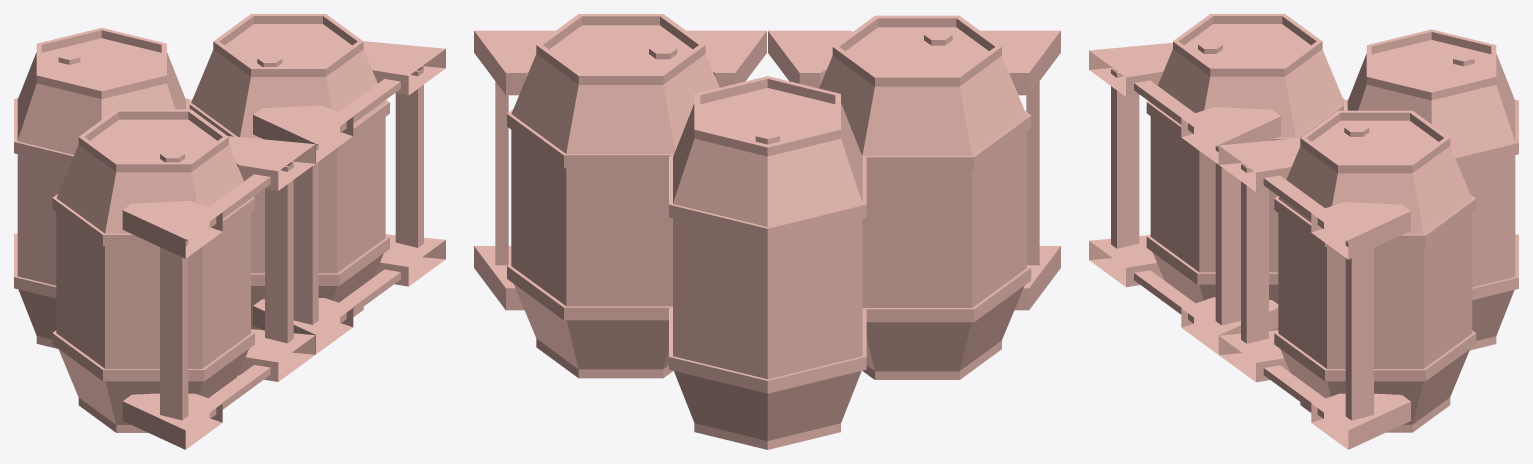
Rendered from Mega_Asset_s_Pack_Cylinder_001.FBX.
The picture shows the model from 3 angles, left to right: view 1: azimuth 30°, elevation 25°; view 2: azimuth 150°, elevation 25°; view 3: azimuth 270°, elevation 25°; orthographic projection. The views are drawn at different scales.
Parts seen in each view (by area): view 1: Mega_Asset_s_Pack_Cylinder_001; view 2: Mega_Asset_s_Pack_Cylinder_001; view 3: Mega_Asset_s_Pack_Cylinder_001.
Part boxes in pixels (x1=…): Mega_Asset_s_Pack_Cylinder_001: x1=14, y1=14, x2=445, y2=449; Mega_Asset_s_Pack_Cylinder_001: x1=474, y1=14, x2=1060, y2=449; Mega_Asset_s_Pack_Cylinder_001: x1=1089, y1=14, x2=1518, y2=449.
Size of what is drawn, in the model's own units: 296 by 265 by 182.
